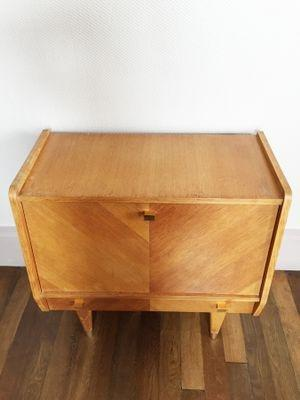cabinet_door: (31, 200, 152, 294), (151, 205, 270, 296)
handle: (142, 211, 158, 224)
